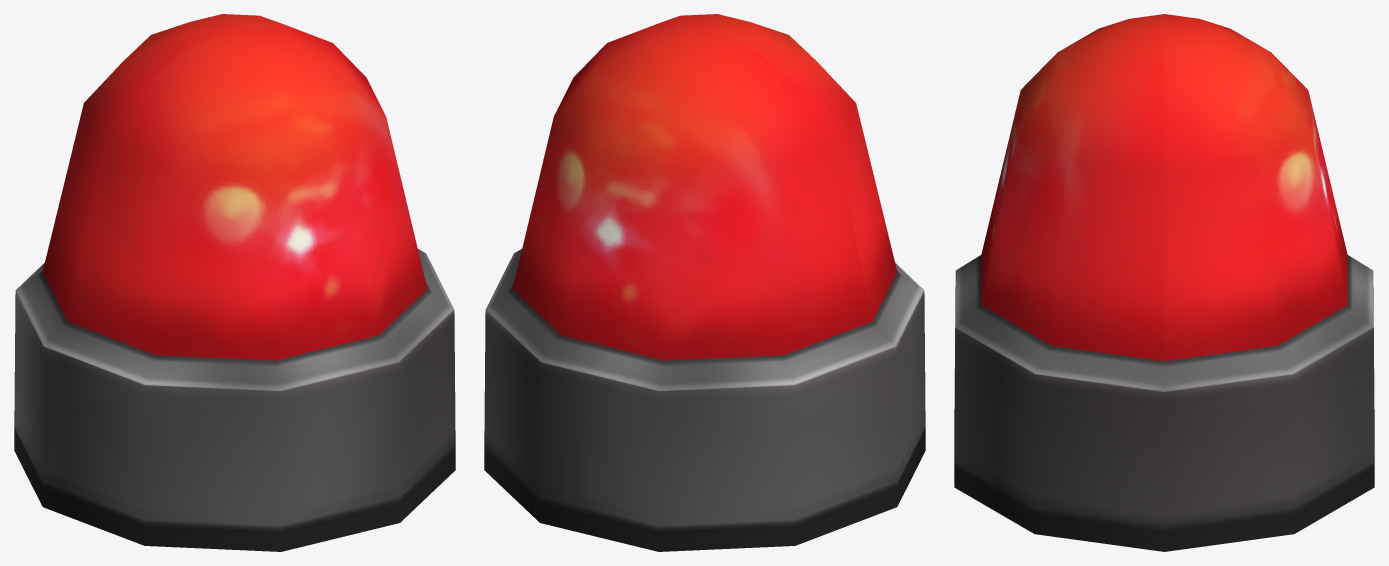
The model's file is item_siren.FBX.
The picture shows the model from 3 angles, left to right: view 1: azimuth 30°, elevation 25°; view 2: azimuth 150°, elevation 25°; view 3: azimuth 270°, elevation 25°; orthographic projection.
Visible parts, largest first — view 1: OilTank001; view 2: OilTank001; view 3: OilTank001.
Part boxes in pixels (x1,y1,x2,y2): OilTank001: [14, 14, 455, 551]; OilTank001: [484, 14, 925, 551]; OilTank001: [954, 14, 1374, 551].
Bounding box in the file's own units: 0.0946 × 0.1018 × 0.09.
